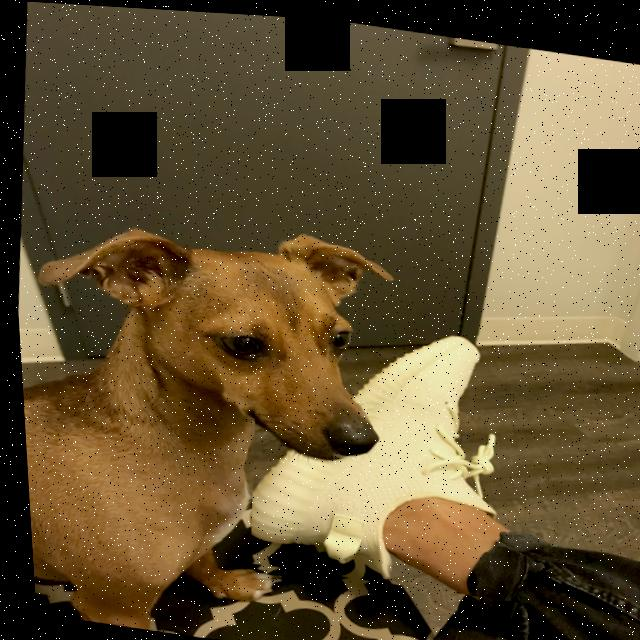shoe: (230, 286, 586, 605)
